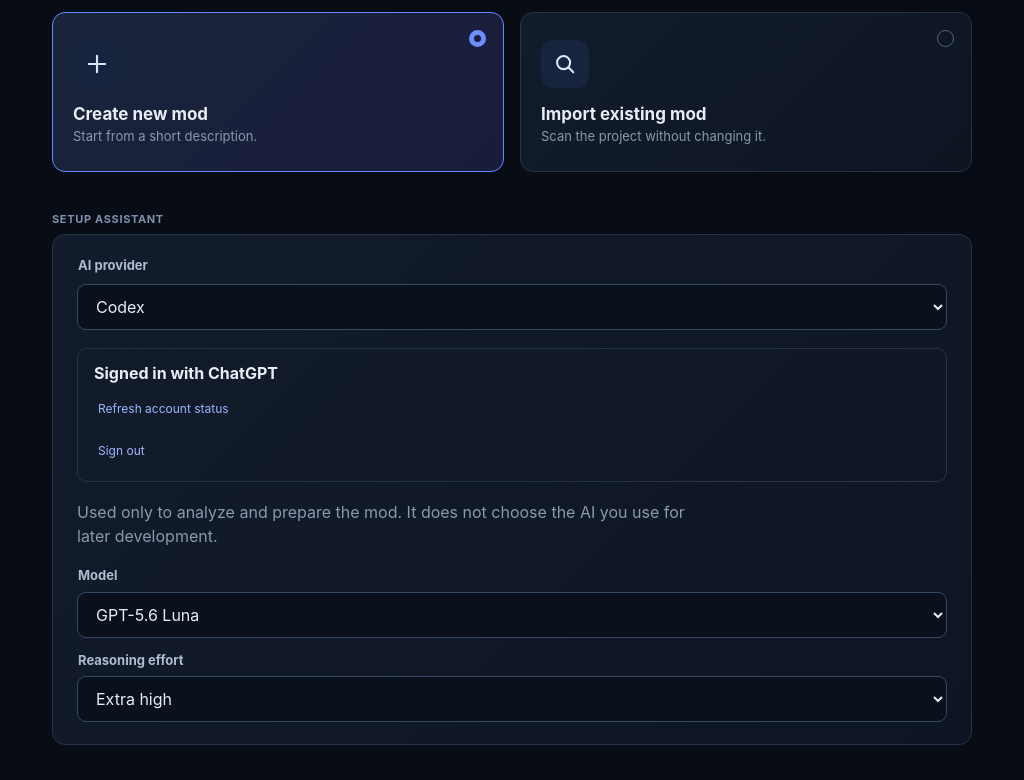
Scenario: HOI4 Mod Setup wizard › uses the live model catalog and only offers efforts supported by the selected model
Select "Deliberate model" in the dropdown labelled "Model" at x=512, y=615, box [77,592,947,638]
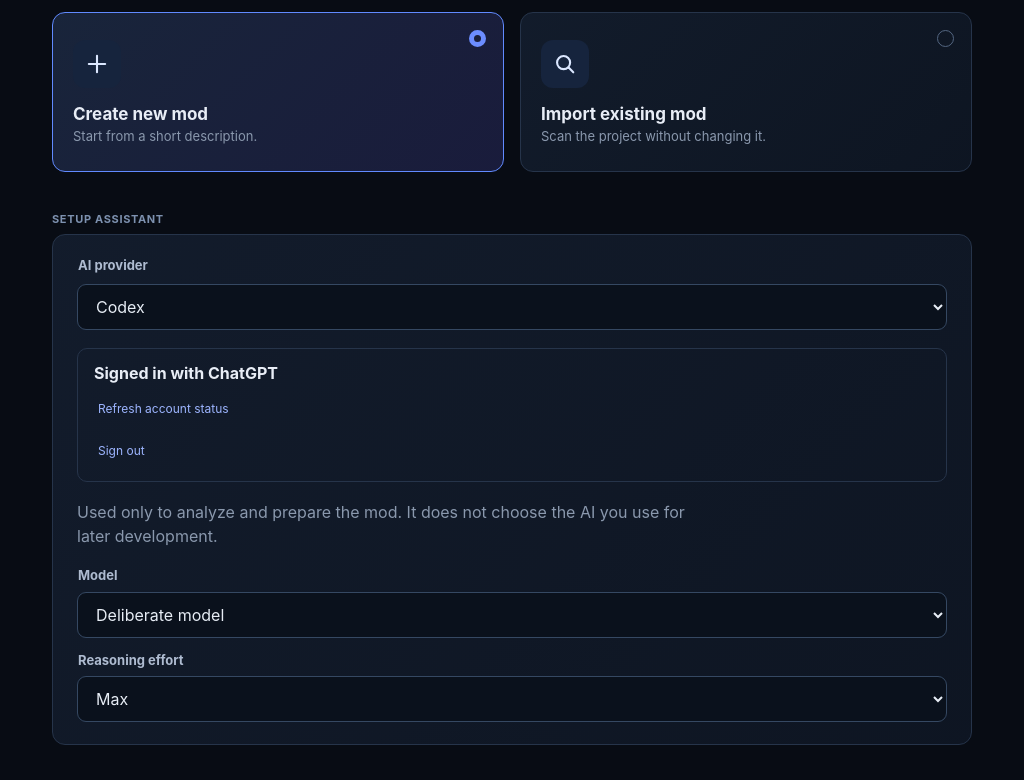
Now the dropdown labelled "Reasoning effort" shows "Max", box [77,676,947,722]
